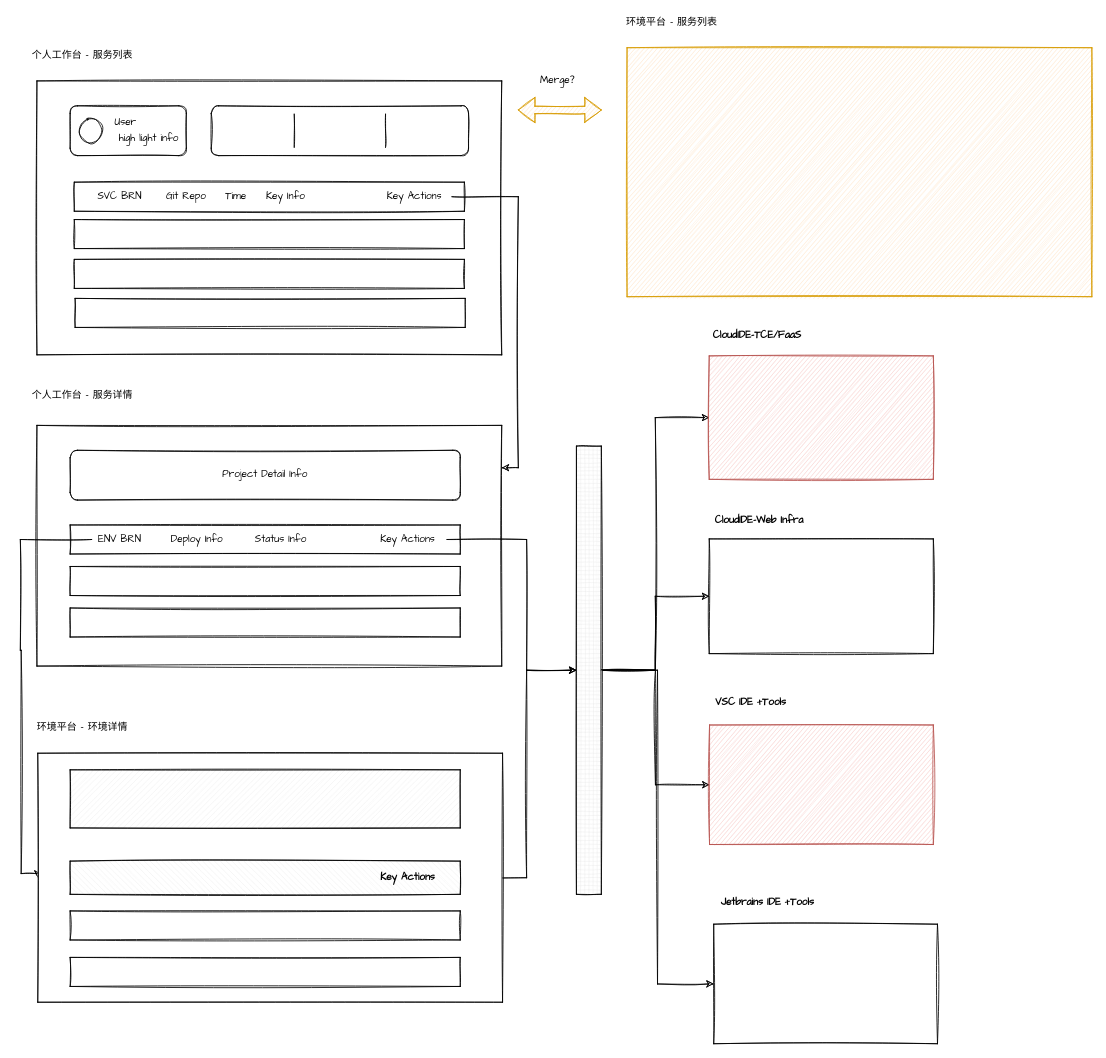
The diagram is 1106 pixels wide and 1058 high, and some of its shapes have lost their labels. Here are the shapes that lost their labels. From the top down, the centre of each, then its label:
At pixel 588 669: "IDE Service".
At pixel 264 798: "ENV Detail Info".
